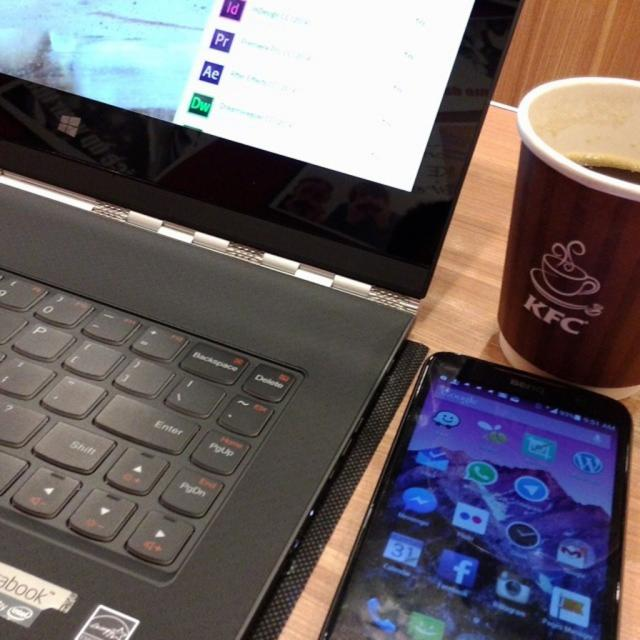Coffee: (511, 79, 640, 417)
